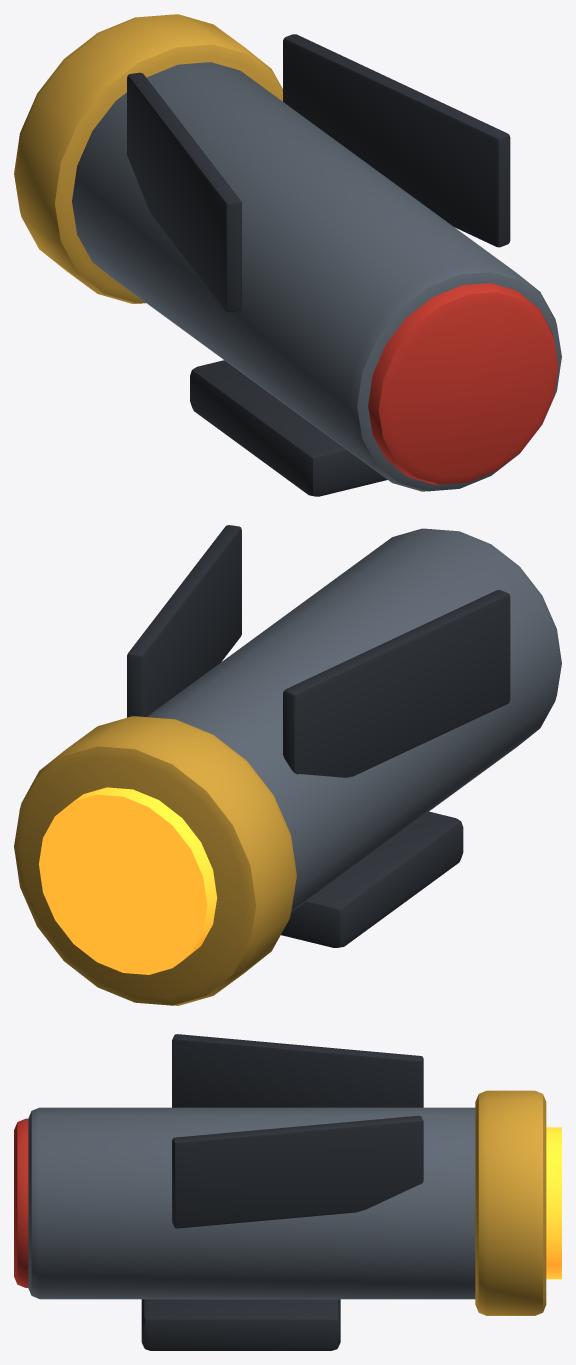
File: ShipBoost.glb
The picture shows the model from 3 angles, top to bottom: view 1: azimuth 30°, elevation 25°; view 2: azimuth 150°, elevation 25°; view 3: azimuth 270°, elevation 25°; orthographic projection. The views are drawn at different scales.
Visible parts, largest first — view 1: ShipBoost; view 2: ShipBoost; view 3: ShipBoost.
Boxes of the visible parts, x1,y1,x2,y2 form: ShipBoost: (14, 14, 561, 496); ShipBoost: (14, 525, 561, 1005); ShipBoost: (14, 1034, 561, 1350).
Bounding box in the file's own units: 0.9115 × 0.92 × 1.93.
